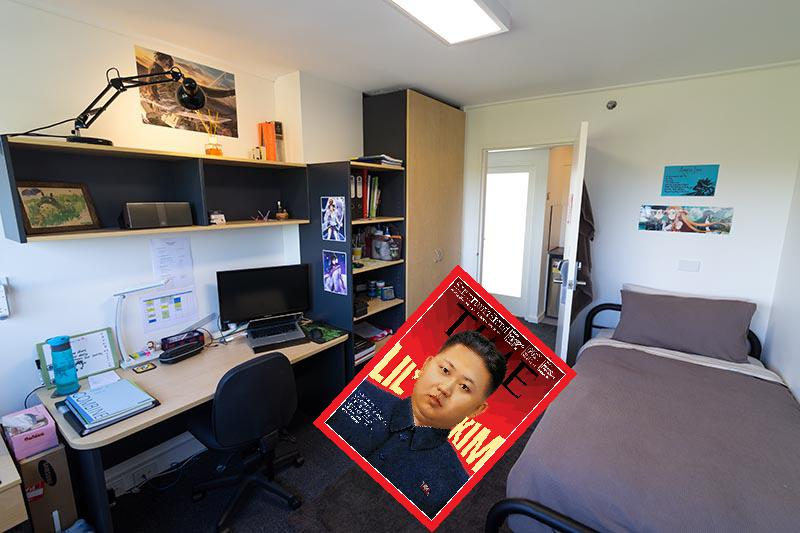times: (312, 260, 577, 531)
